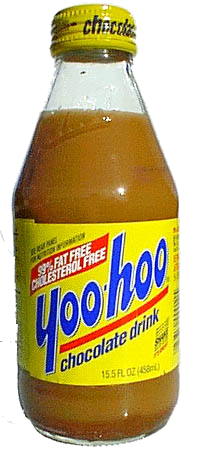grozi_74: (0, 2, 180, 447)
